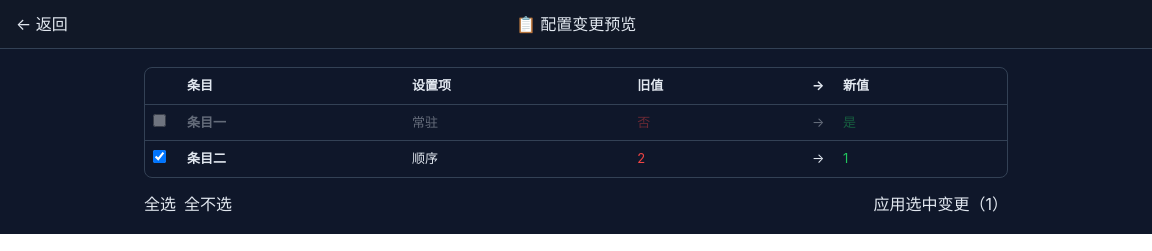
Test: AIConfigPage › selects all preview changes
Click the button with class "select-all" at (160, 204), box left=144, top=192, right=176, bottom=216
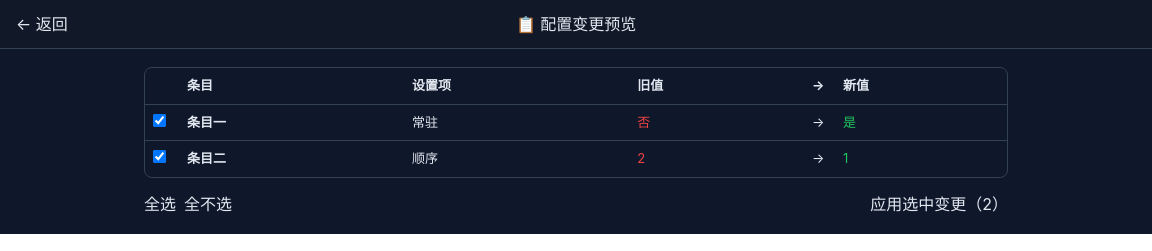
Check: the button with class "apply-action" shows "2", box left=870, top=192, right=1008, bottom=216
